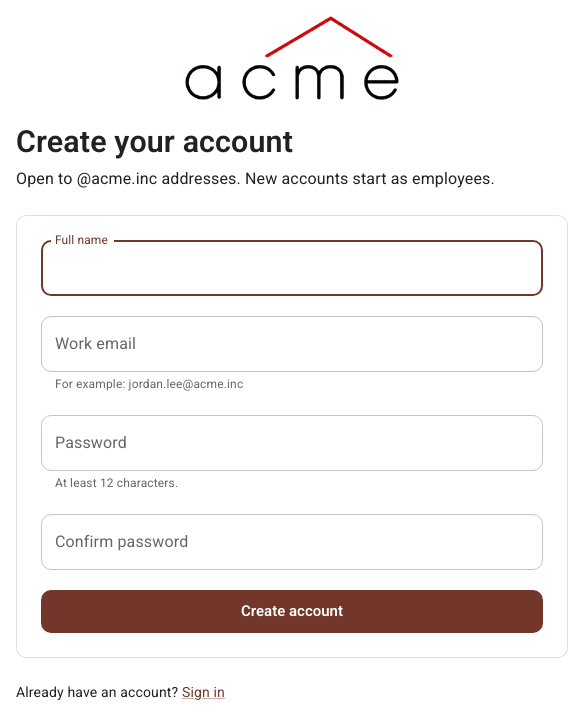
Test: RegisterPage › attaches a taken email to the email field
Type "Jordan Lee" into the field labelled "Full name" at (292, 268), box left=41, top=240, right=543, bottom=296
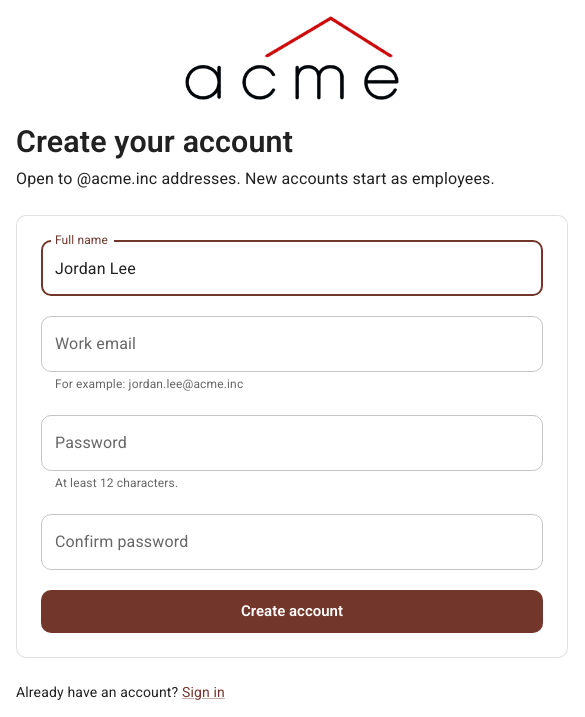
Type "jordan.lee@acme.inc" into the field labelled "Work email" at (292, 344), box left=41, top=316, right=543, bottom=372
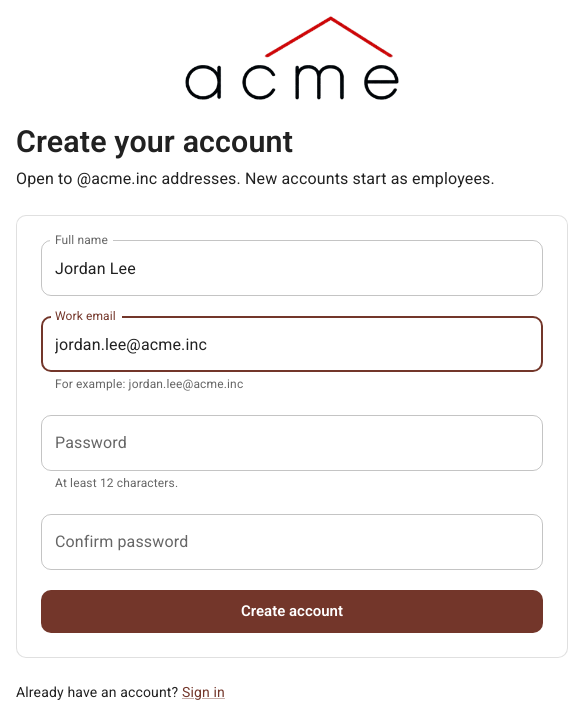
Type "correct horse battery" into the password field labelled "Password" at (292, 443), box left=41, top=415, right=543, bottom=471
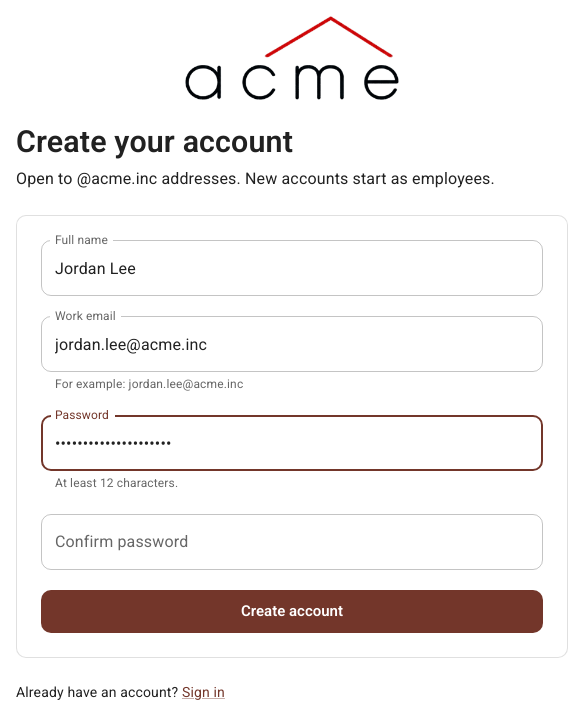
Type "correct horse battery" into the password field labelled "Confirm password" at (292, 542), box left=41, top=514, right=543, bottom=570
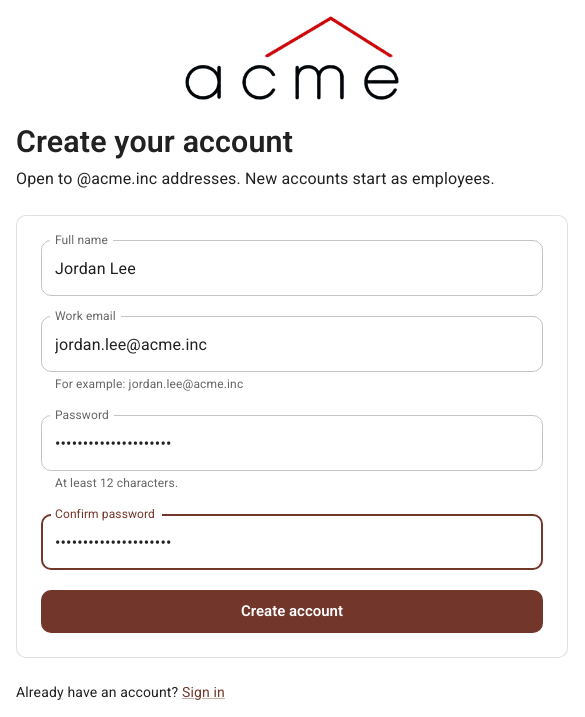
Click the button "Create account" at (292, 611), box left=41, top=590, right=543, bottom=633
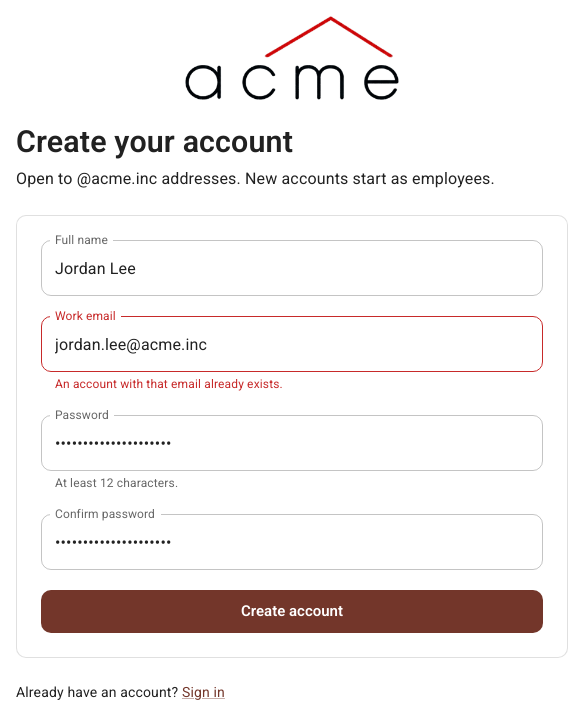
Result: the text "An account with that email already exists." is shown at left=55, top=378, right=283, bottom=392
